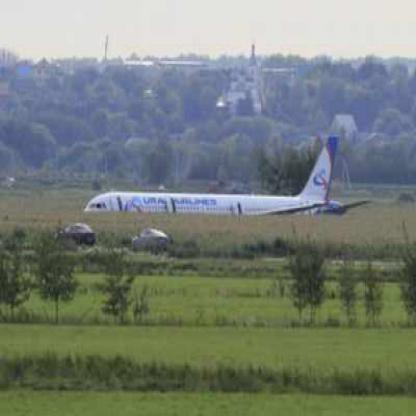CIV_Plane: (72, 128, 368, 235)
